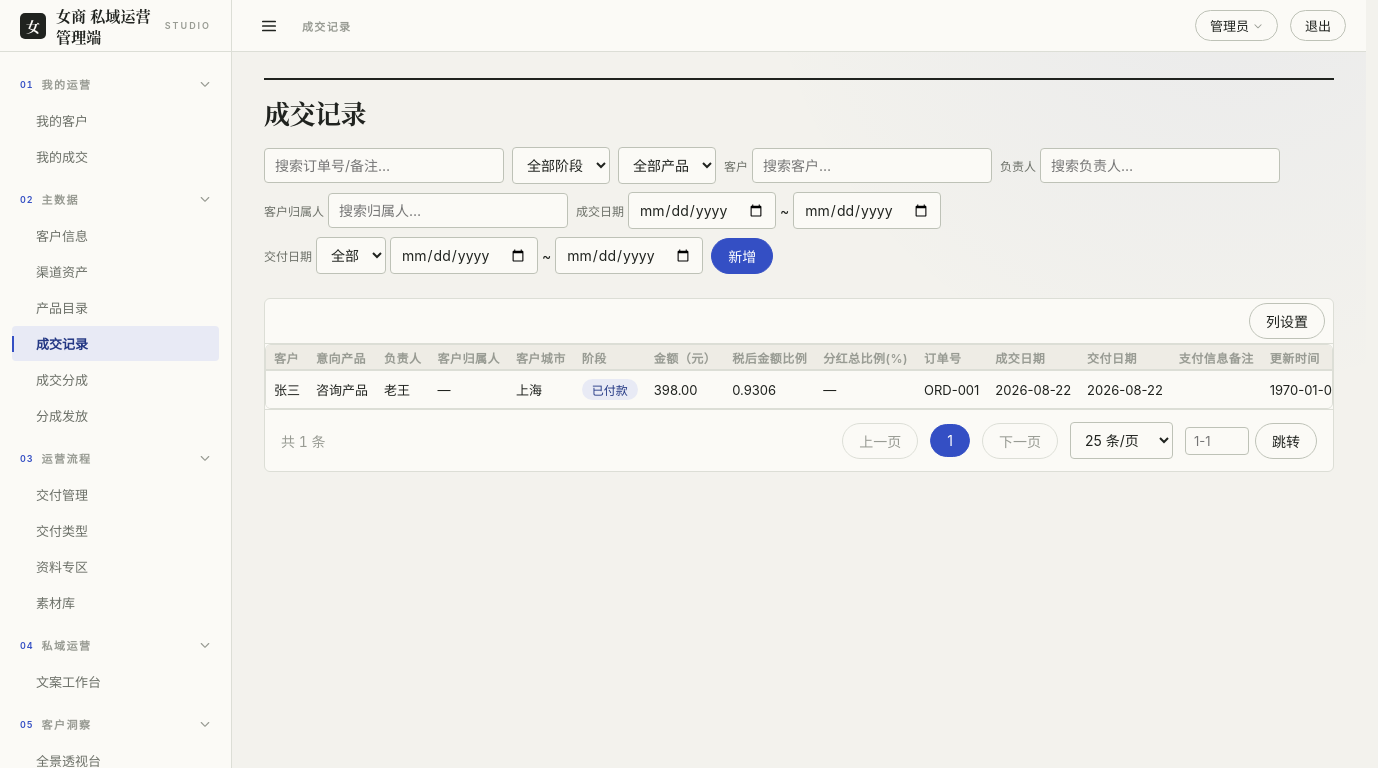
Test case: 成交记录页 › 金额非法输入：toast 报错且不发 PATCH（不静默清库）
Double-click the text "398.00".
double_click(685, 389)  # box [646,370,724,408]
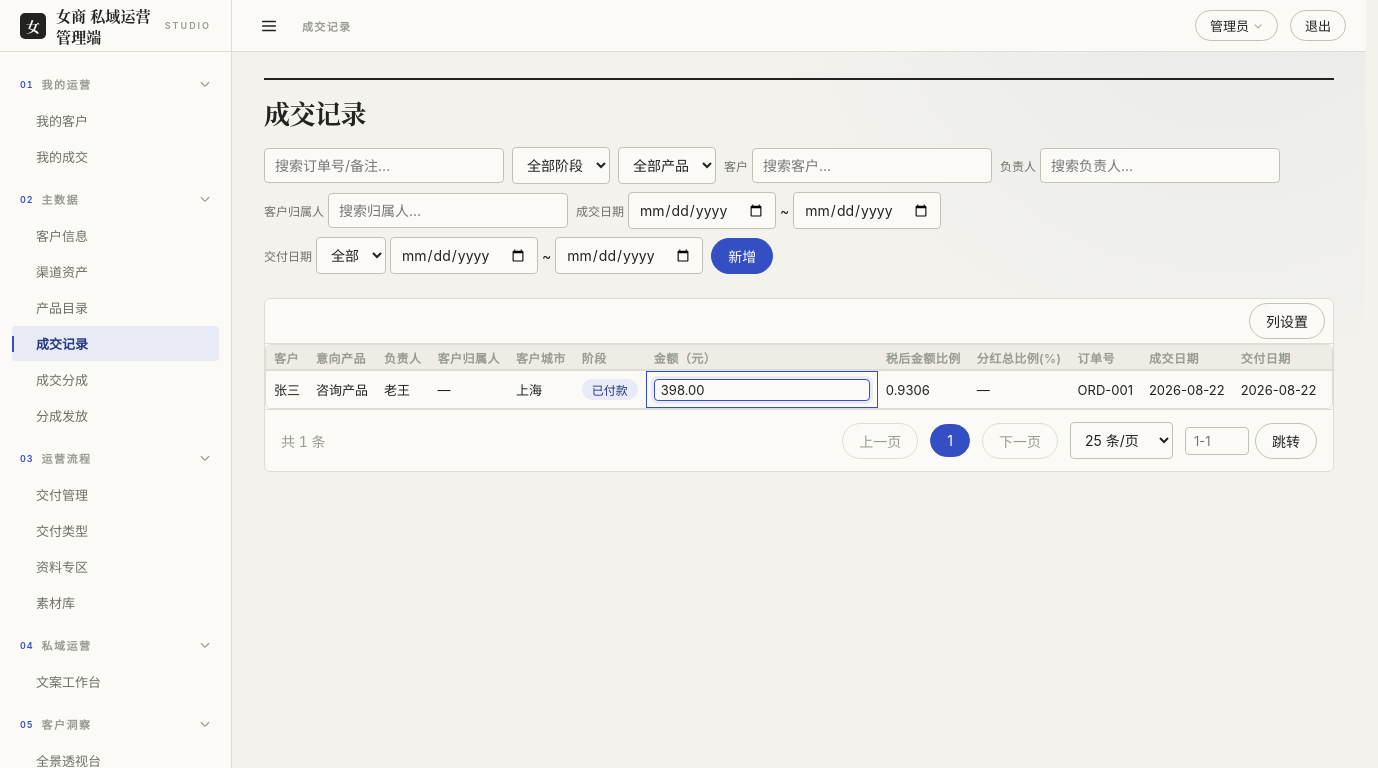
Replace the text in the field named "金额（元）" with "12a" at {"x": 762, "y": 390}, box [654,378,870,400]
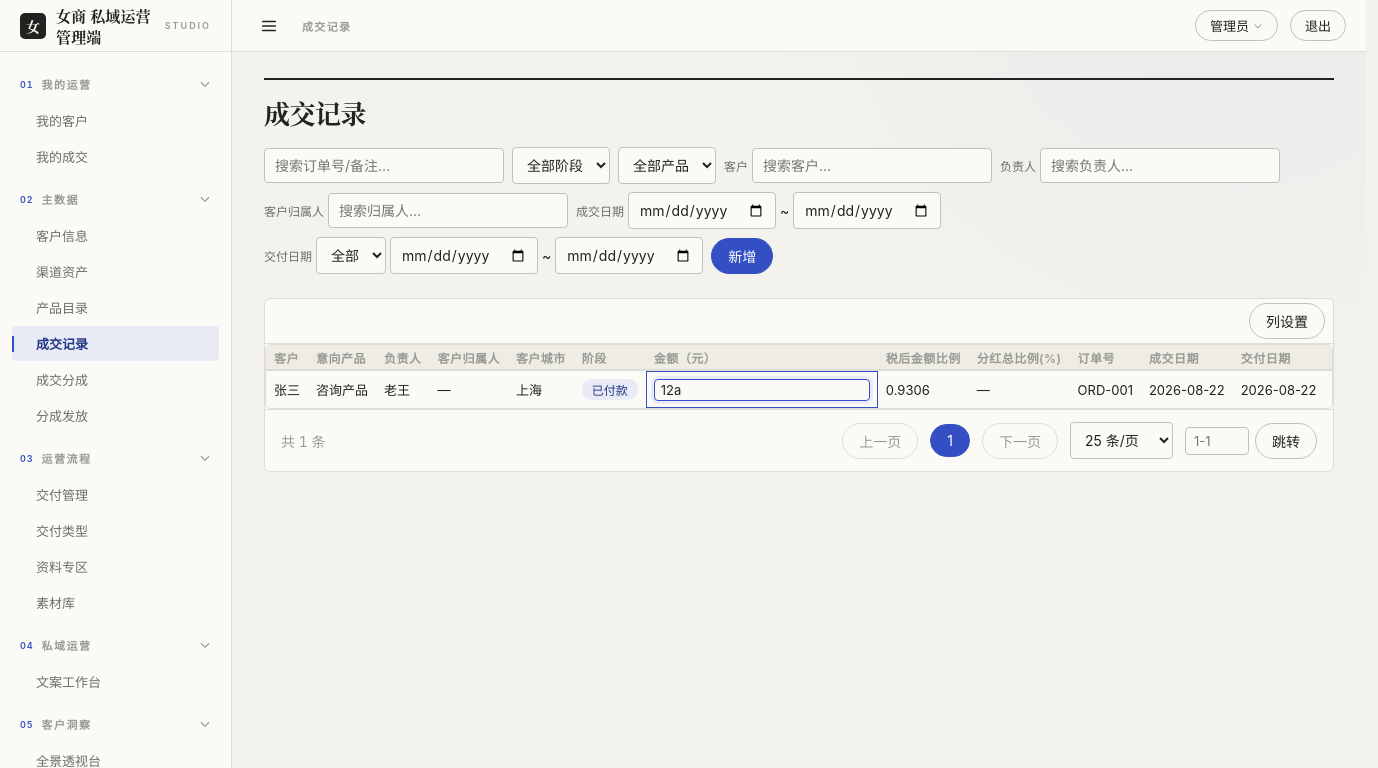
Press Tab in the field named "金额（元）", box [654,378,870,400]
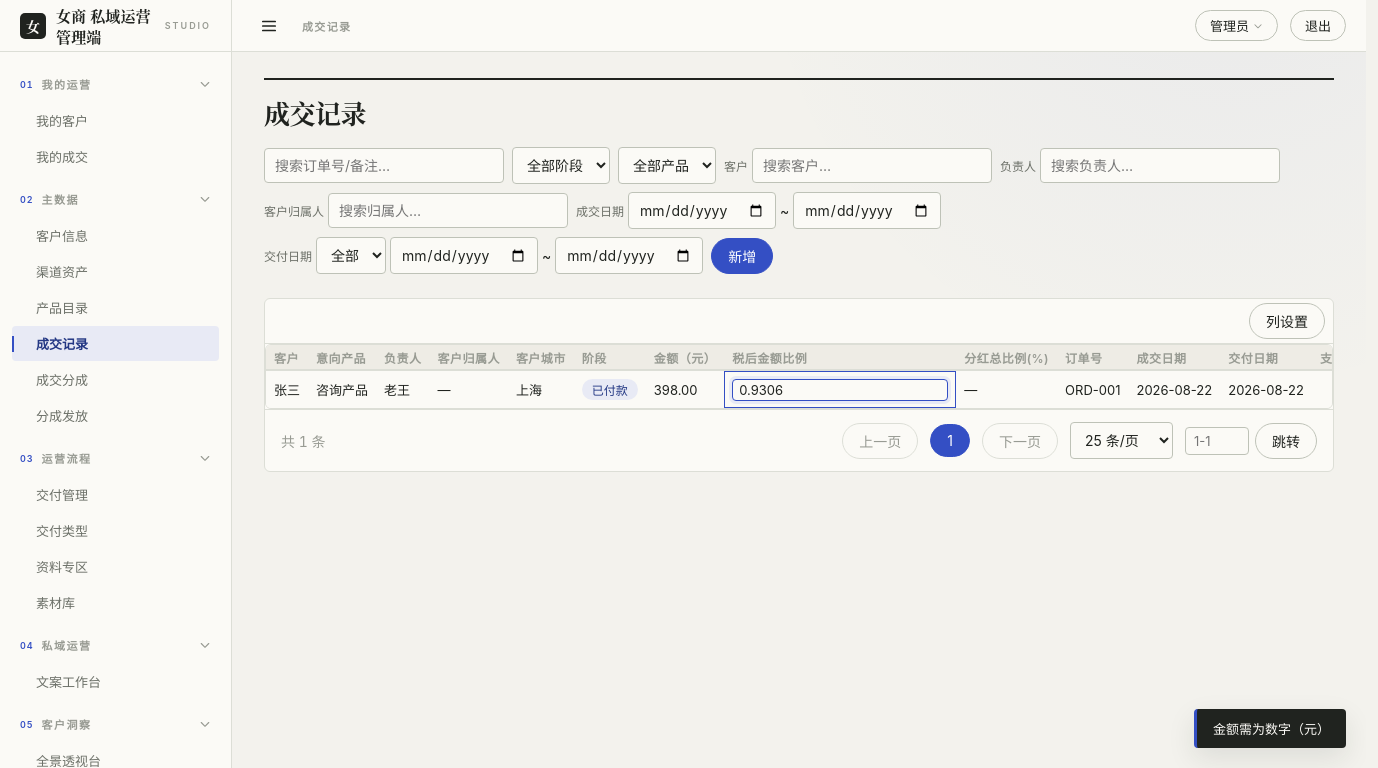
Expected: the text "金额需为数字（元）" is shown, [1194,709,1346,748]
